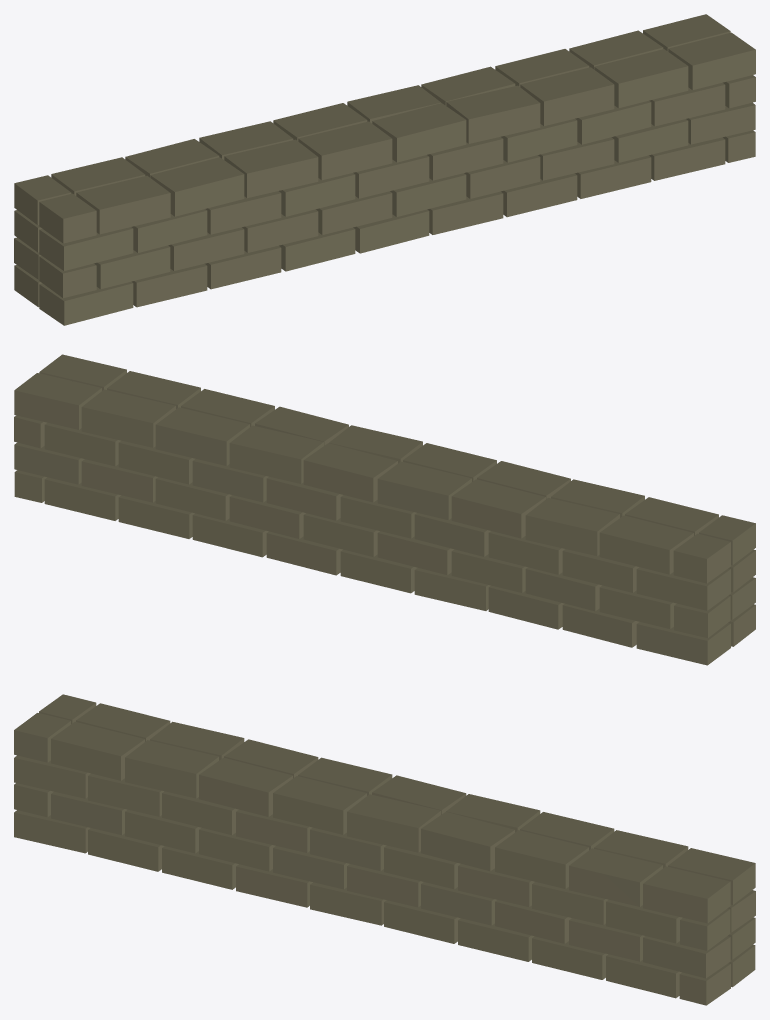
Rendered from SM_MuroSacos_v0_Recto_e0_Sano_LOD0.fbx.
The picture shows the model from 3 angles, top to bottom: view 1: azimuth 30°, elevation 25°; view 2: azimuth 150°, elevation 25°; view 3: azimuth 330°, elevation 25°; orthographic projection.
Parts seen in each view (by area): view 1: SM_bloques.muro_sacos_estados_v0_LOD0; view 2: SM_bloques.muro_sacos_estados_v0_LOD0; view 3: SM_bloques.muro_sacos_estados_v0_LOD0.
Part boxes in pixels (<box>): SM_bloques.muro_sacos_estados_v0_LOD0: <box>14,14,755,325</box>; SM_bloques.muro_sacos_estados_v0_LOD0: <box>14,354,755,665</box>; SM_bloques.muro_sacos_estados_v0_LOD0: <box>14,694,755,1005</box>.
Size of the model in its own units: 7.97 by 1.17 by 0.9933.
